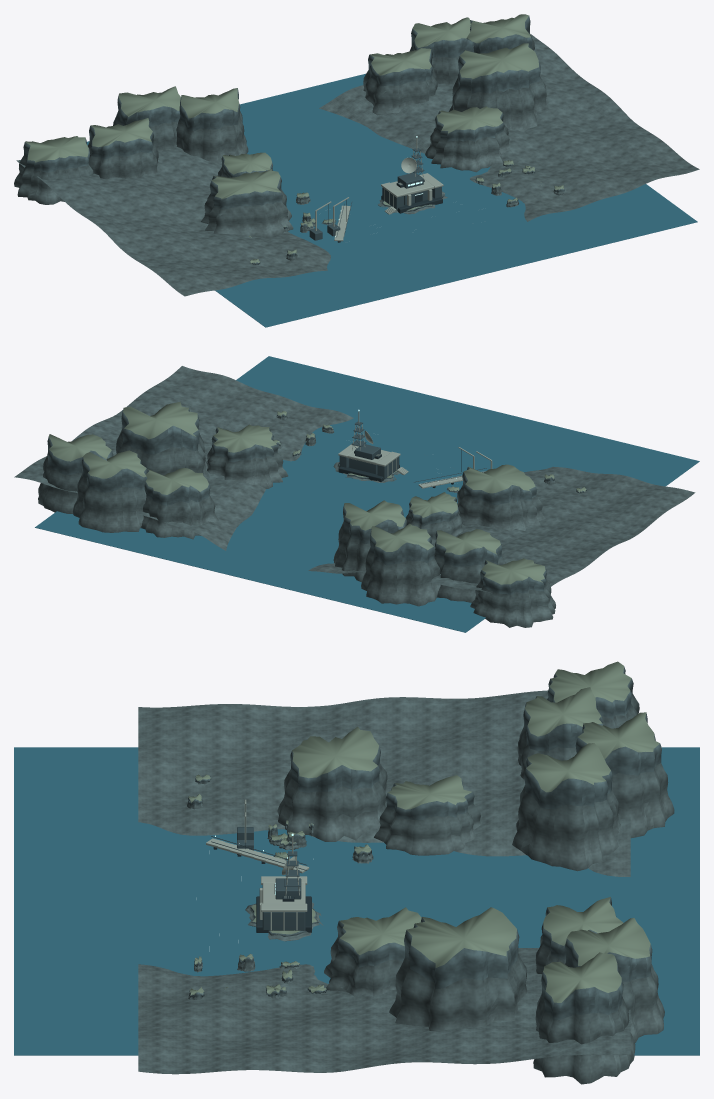
The model's file is coast-v1.glb.
3 views of the same model, one above another, from view 1: azimuth 30°, elevation 25°; view 2: azimuth 150°, elevation 25°; view 3: azimuth 270°, elevation 25° (orthographic). The views are drawn at different scales.
Visible parts, largest first — view 1: coast strata 1, Tidal water, Surface mantle, coast strata 2, coast strata 0, Concrete and brushed alloy, Oxidised armour; view 2: Tidal water, coast strata 1, Surface mantle, coast strata 2, coast strata 0, Oxidised armour, Concrete and brushed alloy; view 3: coast strata 1, Tidal water, Surface mantle, coast strata 2, coast strata 0, Concrete and brushed alloy, Oxidised armour.
Part boxes in pixels (<box>): coast strata 1: <box>16,33,699,296</box>; Tidal water: <box>87,73,697,327</box>; Surface mantle: <box>25,14,563,263</box>; coast strata 2: <box>23,16,564,264</box>; coast strata 0: <box>14,79,547,237</box>; Concrete and brushed alloy: <box>315,137,443,241</box>; Oxidised armour: <box>309,148,441,240</box>; Tidal water: <box>35,356,699,632</box>; coast strata 1: <box>14,366,695,611</box>; Surface mantle: <box>49,401,586,584</box>; coast strata 2: <box>47,408,586,595</box>; coast strata 0: <box>38,429,555,627</box>; Oxidised armour: <box>339,421,486,484</box>; Concrete and brushed alloy: <box>338,411,492,488</box>; coast strata 1: <box>138,690,668,1074</box>; Tidal water: <box>14,747,699,1055</box>; Surface mantle: <box>188,661,659,1002</box>; coast strata 2: <box>188,666,661,1020</box>; coast strata 0: <box>194,756,674,1084</box>; Concrete and brushed alloy: <box>206,799,309,930</box>; Oxidised armour: <box>211,827,307,930</box>.
Size of the model in its own units: 207 by 31.83 by 160.
10 materials, 3 textured.
